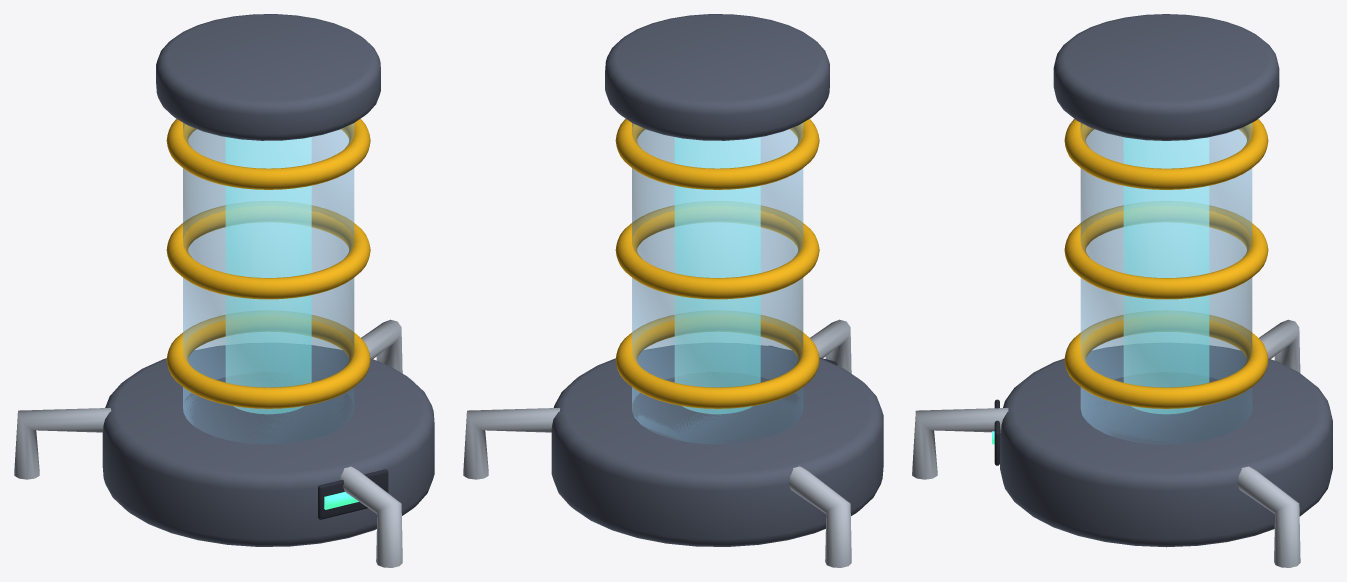
File: Station_Engine.glb
3 renders of one model, left to right at view 1: azimuth 30°, elevation 25°; view 2: azimuth 150°, elevation 25°; view 3: azimuth 270°, elevation 25°, orthographic.
Parts seen in each view (by area): view 1: Station_Engine.Base, Station_Engine.Column, Station_Engine.Cap, Station_Engine.Core, Station_Engine.Ring, Station_Engine.Ring.001, Station_Engine.Ring.002, Station_Engine.Pipe.001, Station_Engine.Pipe.002, Station_Engine.Pipe, Station_Engine.Gauge; view 2: Station_Engine.Base, Station_Engine.Column, Station_Engine.Cap, Station_Engine.Core, Station_Engine.Ring, Station_Engine.Ring.001, Station_Engine.Ring.002, Station_Engine.Pipe, Station_Engine.Pipe.001, Station_Engine.Pipe.002; view 3: Station_Engine.Base, Station_Engine.Column, Station_Engine.Cap, Station_Engine.Core, Station_Engine.Ring, Station_Engine.Ring.001, Station_Engine.Ring.002, Station_Engine.Pipe.002, Station_Engine.Pipe, Station_Engine.Pipe.001.
Boxes of the visible parts, x1=… form: Station_Engine.Base: x1=102, y1=345, x2=434, y2=546; Station_Engine.Column: x1=183, y1=123, x2=354, y2=444; Station_Engine.Cap: x1=156, y1=14, x2=380, y2=140; Station_Engine.Core: x1=225, y1=137, x2=311, y2=414; Station_Engine.Ring: x1=166, y1=315, x2=370, y2=408; Station_Engine.Ring.001: x1=166, y1=205, x2=370, y2=299; Station_Engine.Ring.002: x1=166, y1=119, x2=370, y2=189; Station_Engine.Pipe.001: x1=14, y1=408, x2=111, y2=479; Station_Engine.Pipe.002: x1=340, y1=466, x2=402, y2=567; Station_Engine.Pipe: x1=361, y1=319, x2=402, y2=373; Station_Engine.Gauge: x1=318, y1=469, x2=388, y2=519; Station_Engine.Base: x1=551, y1=345, x2=883, y2=546; Station_Engine.Column: x1=632, y1=123, x2=803, y2=444; Station_Engine.Cap: x1=605, y1=14, x2=829, y2=140; Station_Engine.Core: x1=674, y1=137, x2=760, y2=414; Station_Engine.Ring: x1=615, y1=315, x2=819, y2=408; Station_Engine.Ring.001: x1=615, y1=205, x2=819, y2=299; Station_Engine.Ring.002: x1=615, y1=119, x2=819, y2=189; Station_Engine.Pipe: x1=463, y1=408, x2=560, y2=479; Station_Engine.Pipe.001: x1=789, y1=466, x2=851, y2=567; Station_Engine.Pipe.002: x1=810, y1=319, x2=851, y2=373; Station_Engine.Base: x1=1000, y1=345, x2=1332, y2=547; Station_Engine.Column: x1=1080, y1=123, x2=1252, y2=444; Station_Engine.Cap: x1=1053, y1=14, x2=1279, y2=140; Station_Engine.Core: x1=1123, y1=137, x2=1209, y2=414; Station_Engine.Ring: x1=1064, y1=315, x2=1268, y2=408; Station_Engine.Ring.001: x1=1064, y1=205, x2=1268, y2=299; Station_Engine.Ring.002: x1=1064, y1=119, x2=1268, y2=189; Station_Engine.Pipe.002: x1=912, y1=408, x2=1008, y2=479; Station_Engine.Pipe: x1=1237, y1=466, x2=1300, y2=567; Station_Engine.Pipe.001: x1=1259, y1=319, x2=1300, y2=372.
Size of the model in its own units: 1.66 by 1.74 by 1.57.
